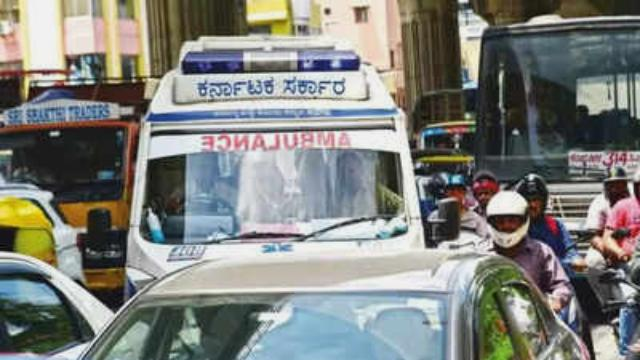ambulance: (122, 17, 446, 315)
